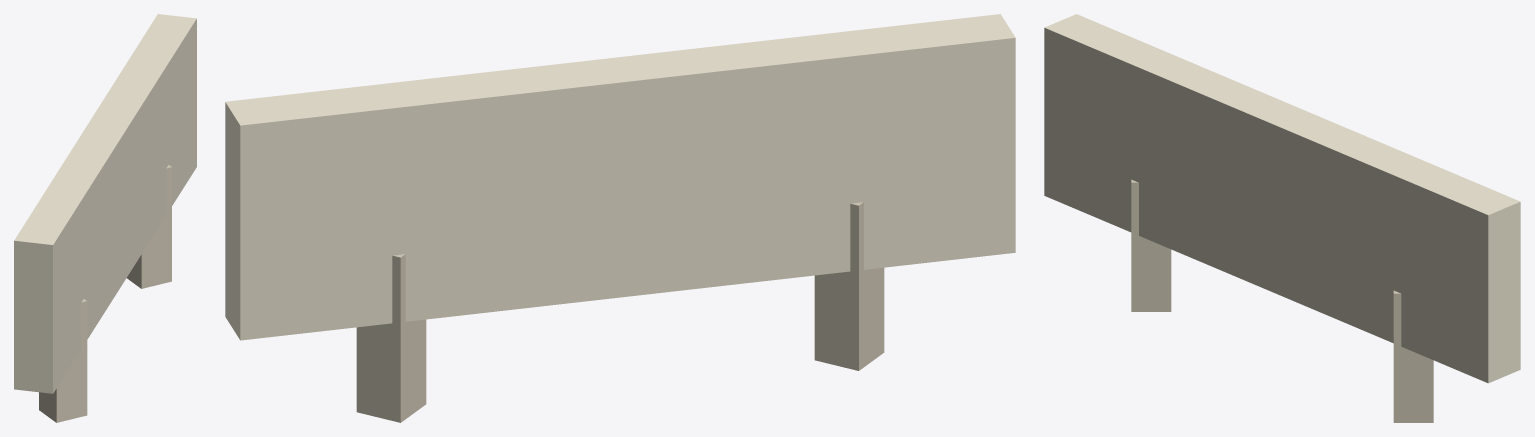
File: rail-45.glb
3 renders of one model, left to right at view 1: azimuth 30°, elevation 25°; view 2: azimuth 150°, elevation 25°; view 3: azimuth 270°, elevation 25°, orthographic. The views are drawn at different scales.
Bounding box in the file's own units: 1.67 × 0.945 × 1.67.
